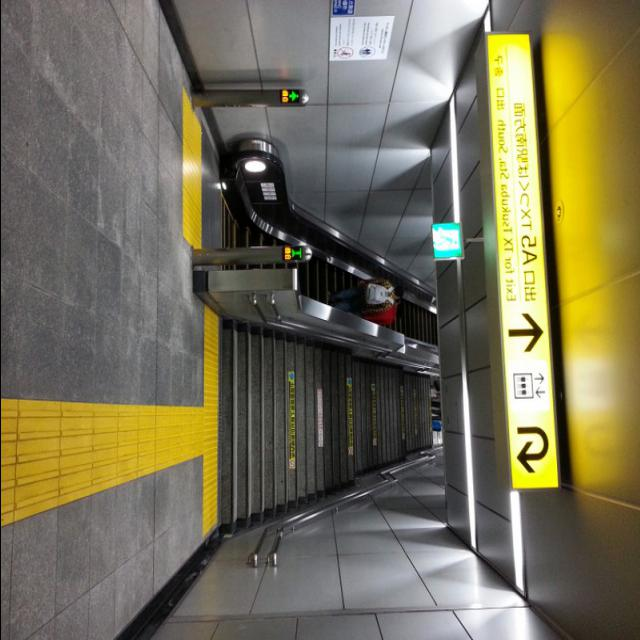tactile-guide-path: (1, 396, 204, 530), (204, 304, 220, 531), (180, 86, 202, 248)
